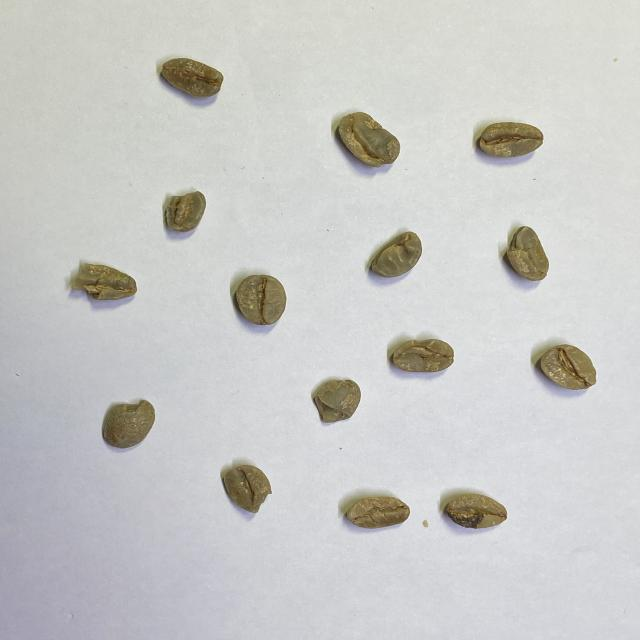bad: (338, 110, 402, 168), (102, 399, 157, 450), (70, 262, 139, 302), (505, 224, 551, 283), (369, 230, 424, 279), (223, 464, 274, 515), (446, 493, 508, 531), (311, 378, 361, 425), (345, 495, 411, 530), (392, 338, 456, 374), (162, 190, 208, 233)
good: (538, 342, 598, 390), (235, 273, 289, 325), (161, 57, 225, 100), (477, 121, 545, 159)
